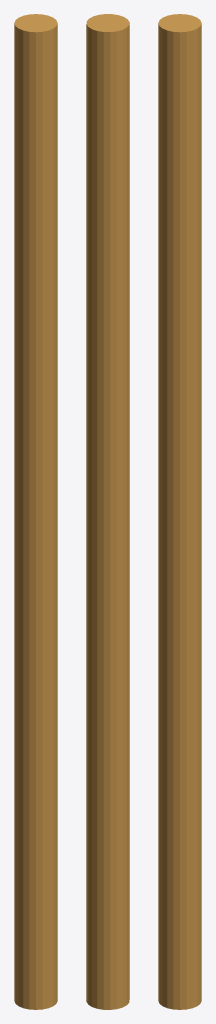
File: Mag.glb
The picture shows the model from 3 angles, left to right: view 1: azimuth 90°, elevation 25°; view 2: azimuth 150°, elevation 25°; view 3: azimuth 270°, elevation 25°; orthographic projection.
Visible parts, largest first — view 1: Mesh_Mesh_head_geo.001_lambert2SG.001; view 2: Mesh_Mesh_head_geo.001_lambert2SG.001; view 3: Mesh_Mesh_head_geo.001_lambert2SG.001.
Boxes of the visible parts, <box> form: Mesh_Mesh_head_geo.001_lambert2SG.001: <box>14,14,57,1009</box>; Mesh_Mesh_head_geo.001_lambert2SG.001: <box>86,14,129,1009</box>; Mesh_Mesh_head_geo.001_lambert2SG.001: <box>158,14,201,1009</box>.
Bounding box in the file's own units: 20 × 499 × 20.
